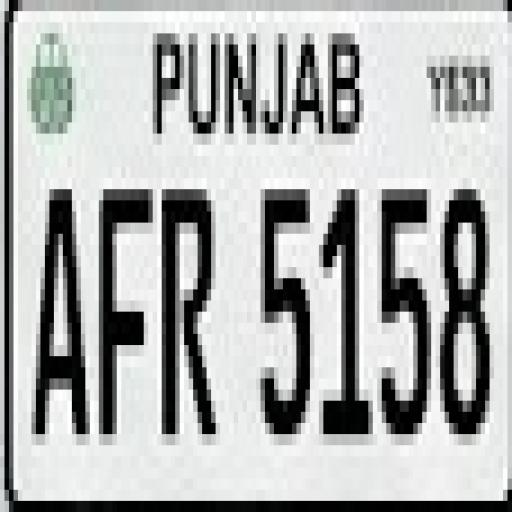1: (317, 180, 373, 446)
5: (250, 190, 314, 435), (377, 182, 433, 456)
8: (436, 184, 498, 454)
A: (24, 186, 93, 452)
F: (96, 188, 155, 438)
R: (158, 177, 229, 445)
